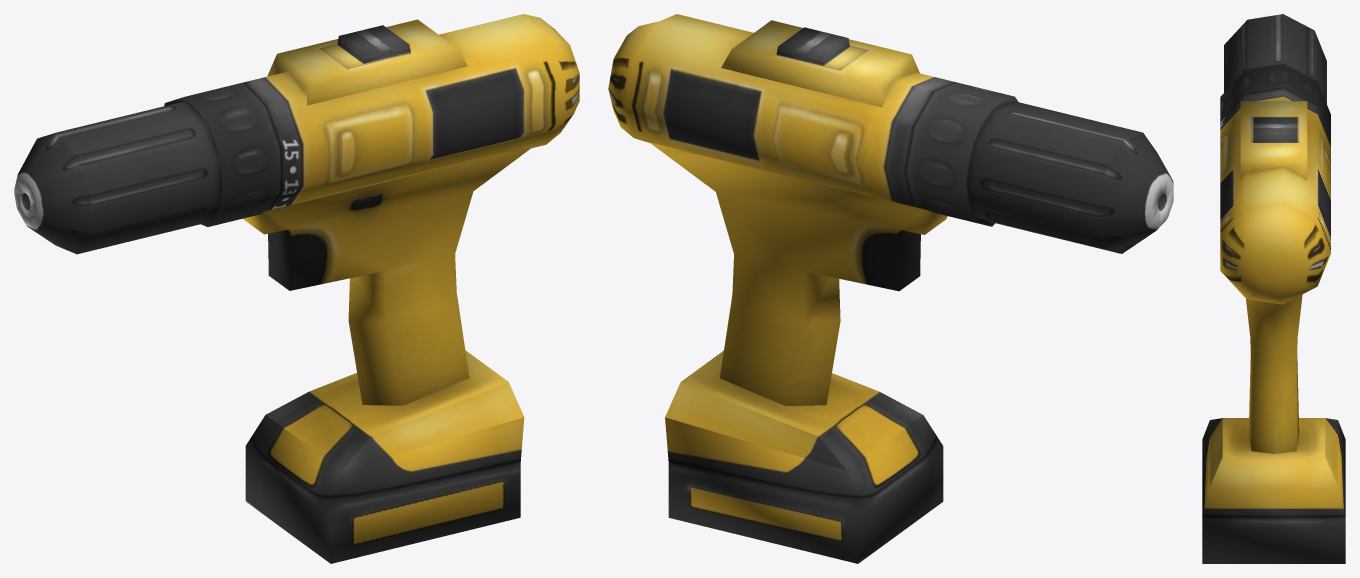
The model's file is SDZ.fbx.
3 views of the same model, side by side, from view 1: azimuth 30°, elevation 25°; view 2: azimuth 150°, elevation 25°; view 3: azimuth 270°, elevation 25° (orthographic). The views are drawn at different scales.
Visible parts, largest first — view 1: shoudianzuan:polySurface1; view 2: shoudianzuan:polySurface1; view 3: shoudianzuan:polySurface1.
Part boxes in pixels (bbox=[...]): shoudianzuan:polySurface1: bbox=[14, 14, 579, 563]; shoudianzuan:polySurface1: bbox=[608, 14, 1173, 563]; shoudianzuan:polySurface1: bbox=[1202, 14, 1345, 563].
Size of the model in its own units: 18.15 by 15.11 by 4.96.
Materials: 1 (1 with a texture image).
